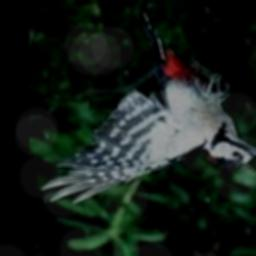Woodpecker: (41, 12, 256, 206)
